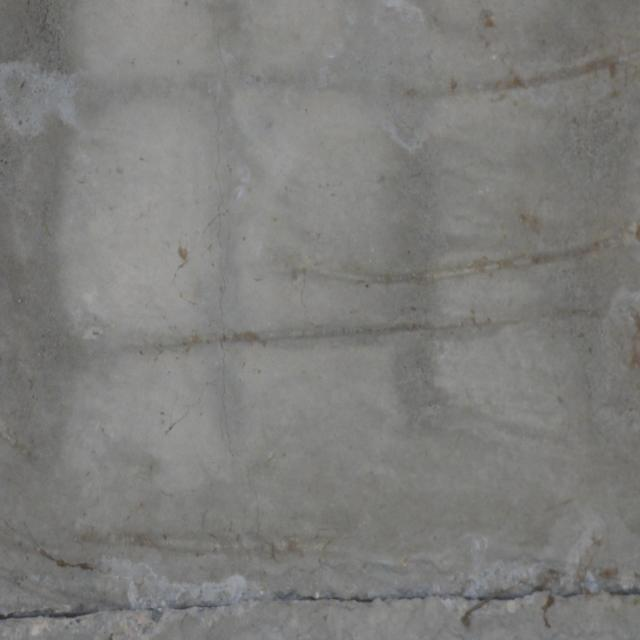horizontal crack: (0, 582, 640, 624)
